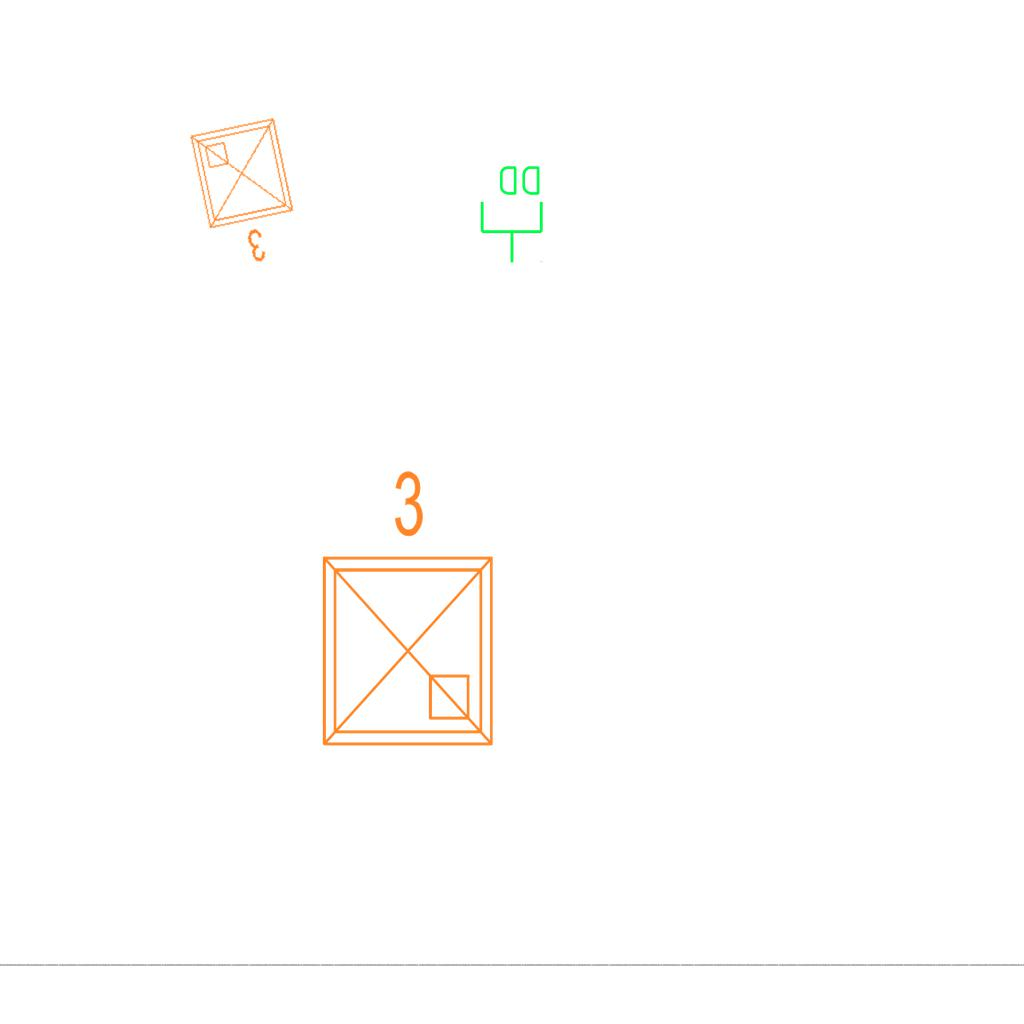Datenanschluss_zweifach: (478, 162, 547, 265)
Einbaudownlights_LED_Konferenzraeume: (300, 460, 508, 760), (181, 108, 315, 278)
